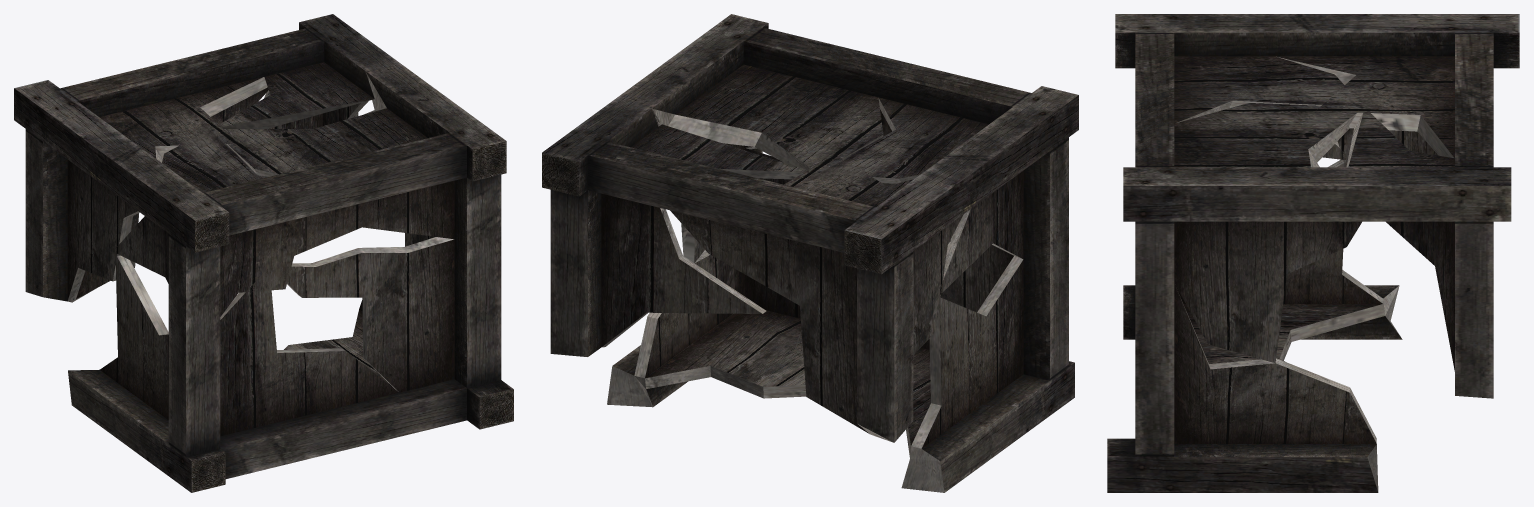
File: wood_box_small01_broken.dae
3 views of the same model, side by side, from view 1: azimuth 30°, elevation 25°; view 2: azimuth 150°, elevation 25°; view 3: azimuth 270°, elevation 25° (orthographic). The views are drawn at different scales.
Parts seen in each view (by area): view 1: p6, p1, p4, p5, p3, p2; view 2: p1, p2, p6, p3, p4, p5; view 3: p4, p5, p1, p2, p3, p6.
Boxes of the visible parts, x1,y1,x2,y2 form: p6: [68, 254, 416, 492]; p1: [14, 38, 268, 302]; p4: [213, 60, 506, 265]; p5: [270, 237, 513, 432]; p3: [113, 129, 354, 361]; p2: [212, 14, 395, 128]; p1: [635, 139, 1017, 442]; p2: [542, 102, 815, 356]; p6: [795, 245, 1074, 492]; p3: [818, 60, 1078, 298]; p4: [611, 14, 896, 262]; p5: [607, 148, 895, 407]; p4: [1123, 100, 1369, 363]; p5: [1107, 283, 1378, 492]; p1: [1241, 14, 1519, 165]; p2: [1346, 112, 1511, 398]; p3: [1115, 14, 1348, 160]; p6: [1123, 159, 1402, 363].
Size of the model in its own units: 0.6 by 0.5 by 0.6084.
